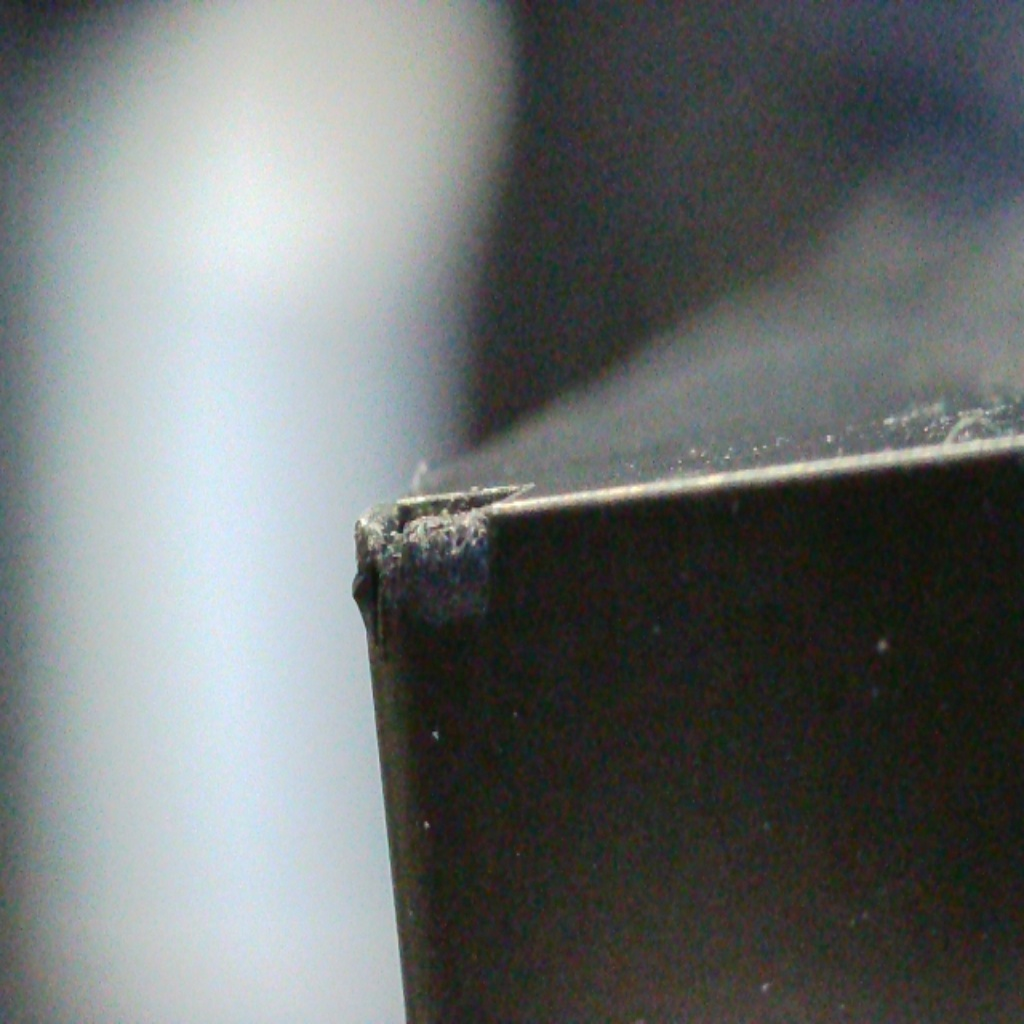flank_wear: (360, 542, 386, 650)
